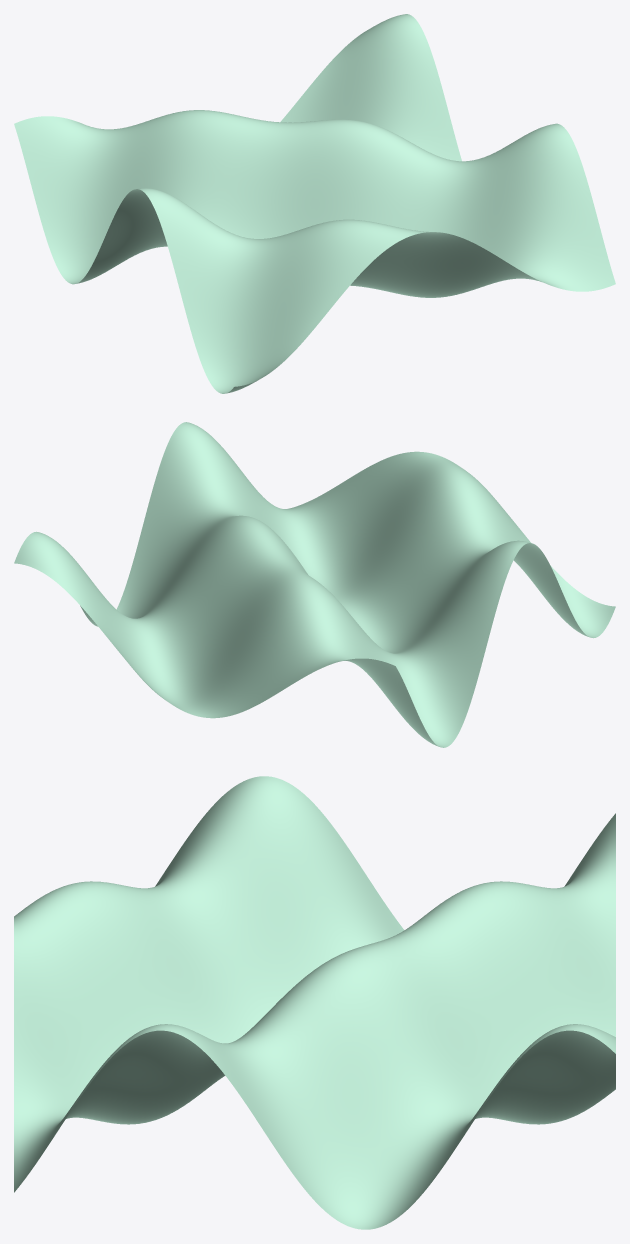
The model's file is ex_gyroid.glb.
3 renders of one model, top to bottom at view 1: azimuth 30°, elevation 25°; view 2: azimuth 150°, elevation 25°; view 3: azimuth 270°, elevation 25°, orthographic. The views are drawn at different scales.
Parts seen in each view (by area): view 1: Gyroid; view 2: Gyroid; view 3: Gyroid.
Boxes of the visible parts, x1,y1,x2,y2 form: Gyroid: (14, 14, 615, 393); Gyroid: (14, 422, 615, 747); Gyroid: (14, 776, 615, 1229).
Size of the model in its own units: 4.2 by 1.53 by 4.2.
